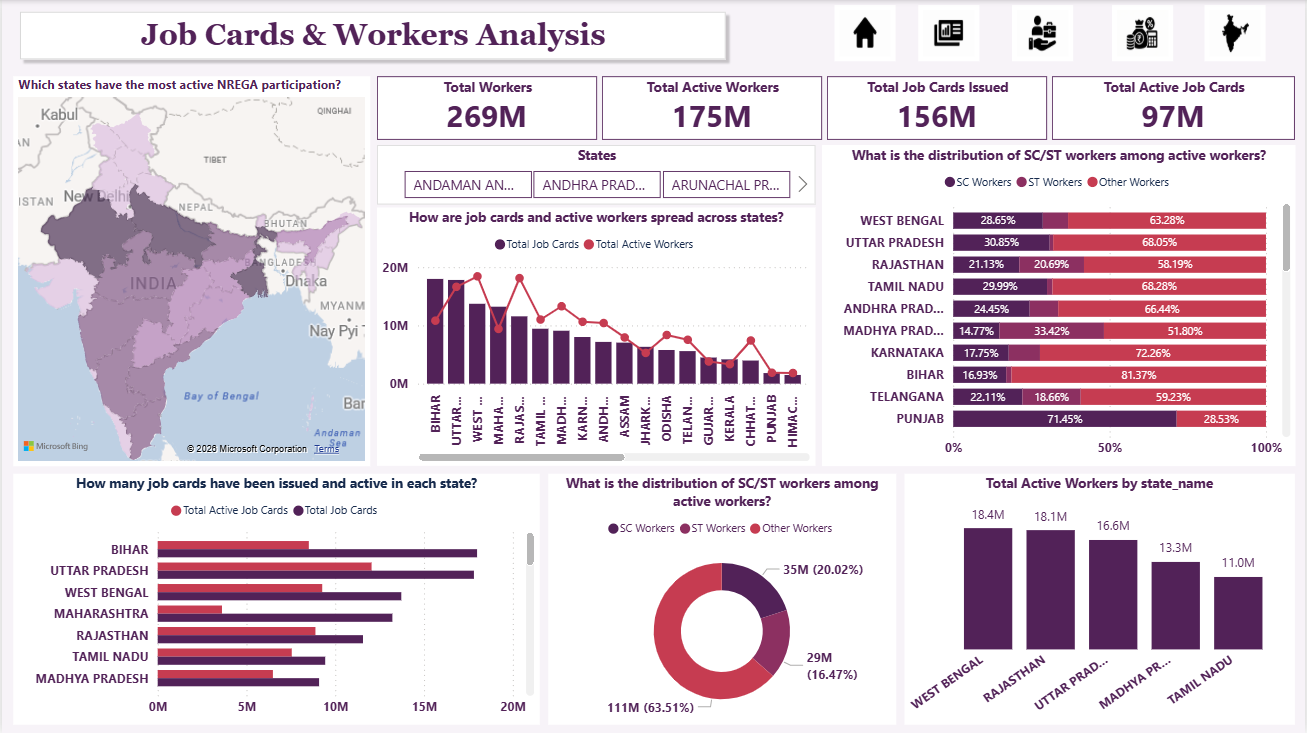

This screenshot's page, from the dashboard's own definition file:
{"tool":"powerbi","page":{"name":"Job Cards & Workers Analysis","canvas":[1280,720],"ordinal":0},"visuals":[{"type":"card","title":"Total Active Workers","fields":{"Values":["NREGA Data.Total Active Workers"]},"box":[589,75,216,62],"z":0},{"type":"card","title":"Total Job Cards Issued","fields":{"Values":["NREGA Data.Total Job Cards"]},"box":[810,75,216,62],"z":1000},{"type":"card","title":"Total Active Job Cards","fields":{"Values":["NREGA Data.Total Active Job Cards"]},"box":[1031,75,238,62],"z":2000},{"type":"slicer","title":"States","fields":{"Values":["NREGA Data.state_name"]},"box":[368,142,430,58],"z":3000},{"type":"filledMap","title":"Which states have the most active NREGA participation?","fields":{"Category":["NREGA Data.state_name"]},"box":[11.2,75,350,382.5],"z":4000},{"type":"lineClusteredColumnComboChart","title":"How are job cards and active workers spread across states?","fields":{"Category":["NREGA Data.state_name"],"Y":["NREGA Data.Total Job Cards"],"Y2":["NREGA Data.Total Active Workers"]},"box":[367.5,203.8,430,253.8],"z":5000},{"type":"hundredPercentStackedBarChart","title":"What is the distribution of SC/ST workers among active workers?","fields":{"Category":["NREGA Data.state_name"],"Y":["NREGA Data.SC Workers","NREGA Data.ST Workers","NREGA Data.Other Workers"]},"box":[805,142,465,315.3],"z":6000},{"type":"clusteredBarChart","title":"How many job cards have been issued and active in each state?","fields":{"Category":["NREGA Data.state_name"],"Y":["NREGA Data.Total Active Job Cards","NREGA Data.Total Job Cards"]},"box":[11,465,516.6,246.6],"z":7000},{"type":"donutChart","title":"What is the distribution of SC/ST workers among active workers?","fields":{"Y":["NREGA Data.SC Workers","NREGA Data.ST Workers","NREGA Data.Other Workers"]},"box":[536.2,465,341.2,246.2],"z":8000},{"type":"clusteredColumnChart","fields":{"Y":["NREGA Data.Total Active Workers"],"Category":["NREGA Data.state_name"]},"box":[885.9,465,382.8,246.6],"z":9000},{"type":"card","title":"Total Workers","fields":{"Values":["NREGA Data.Total Workers"]},"box":[368,75,216,62],"z":10000},{"type":"image","box":[899,5,60,55],"z":11000},{"type":"image","box":[817,5,60,55],"z":12000},{"type":"image","box":[1090,5,60,55],"z":13000},{"type":"image","box":[992,5,60,55],"z":14000},{"type":"image","box":[1180,5,60,55],"z":15000},{"type":"shape","box":[11,5,706,60],"z":16000},{"type":"textbox","title":"Job Cards & Workers Analysis","box":[120.2,17.2,488.3,36.8],"z":17000}]}

Visuals, with their boxes in screenshot pixels (x1, y1, x2, y2), scaled from the page's 1280x720 canvas onto the 1307x733 screenshot:
"Total Active Workers" card: l=601, t=76, r=822, b=139
"Total Job Cards Issued" card: l=827, t=76, r=1048, b=139
"Total Active Job Cards" card: l=1053, t=76, r=1296, b=139
"States" slicer: l=376, t=145, r=815, b=204
"Which states have the most active NREGA participation?" filledMap: l=11, t=76, r=369, b=466
"How are job cards and active workers spread across states?" lineClusteredColumnComboChart: l=375, t=207, r=814, b=466
"What is the distribution of SC/ST workers among active workers?" hundredPercentStackedBarChart: l=822, t=145, r=1297, b=466
"How many job cards have been issued and active in each state?" clusteredBarChart: l=11, t=473, r=539, b=724
"What is the distribution of SC/ST workers among active workers?" donutChart: l=548, t=473, r=896, b=724
clusteredColumnChart - NREGA Data.Total Active Workers x NREGA Data.state_name: l=905, t=473, r=1295, b=724
"Total Workers" card: l=376, t=76, r=596, b=139
image: l=918, t=5, r=979, b=61
image: l=834, t=5, r=895, b=61
image: l=1113, t=5, r=1174, b=61
image: l=1013, t=5, r=1074, b=61
image: l=1205, t=5, r=1266, b=61
shape: l=11, t=5, r=732, b=66
"Job Cards & Workers Analysis" textbox: l=123, t=18, r=621, b=55
